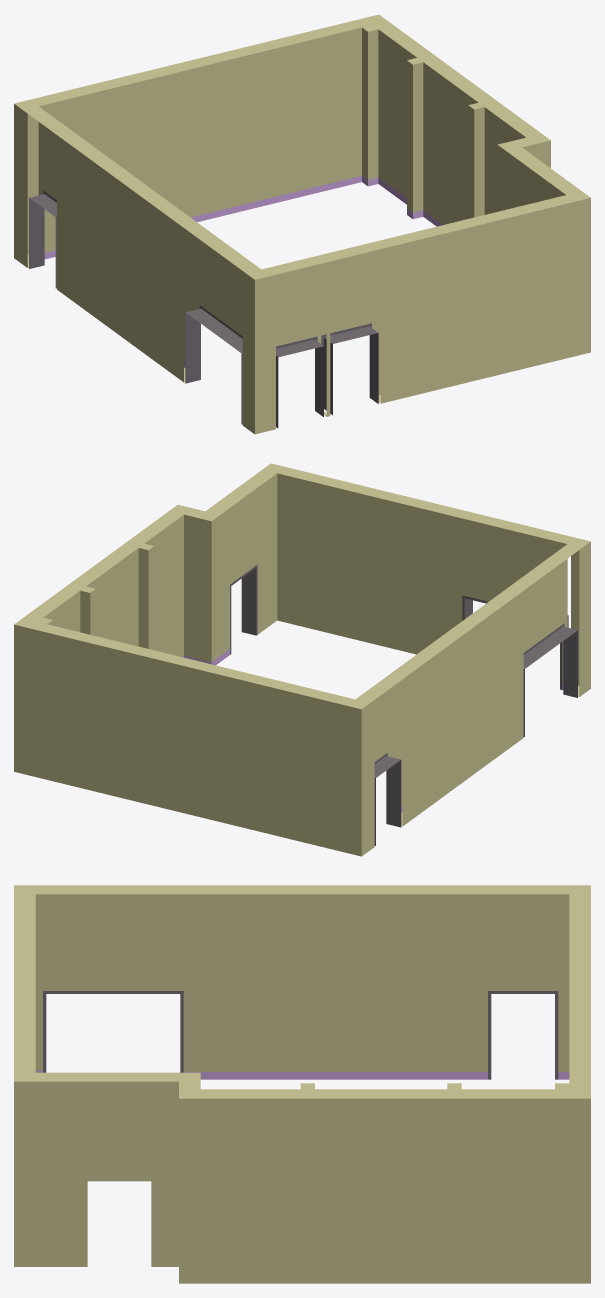
File: Building-Rev2.fbx
3 renders of one model, top to bottom at view 1: azimuth 30°, elevation 25°; view 2: azimuth 150°, elevation 25°; view 3: azimuth 270°, elevation 25°, orthographic. The views are drawn at different scales.
Parts seen in each view (by area): view 1: Cube; view 2: Cube; view 3: Cube.
Part boxes in pixels (left/top/right/bottom): Cube: left=14, top=14, right=590, bottom=434; Cube: left=14, top=463, right=590, bottom=856; Cube: left=14, top=885, right=590, bottom=1283.
Bounding box in the file's own units: 1050 × 425 × 1200.
